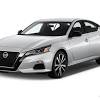Nissan: (1, 21, 100, 73)
